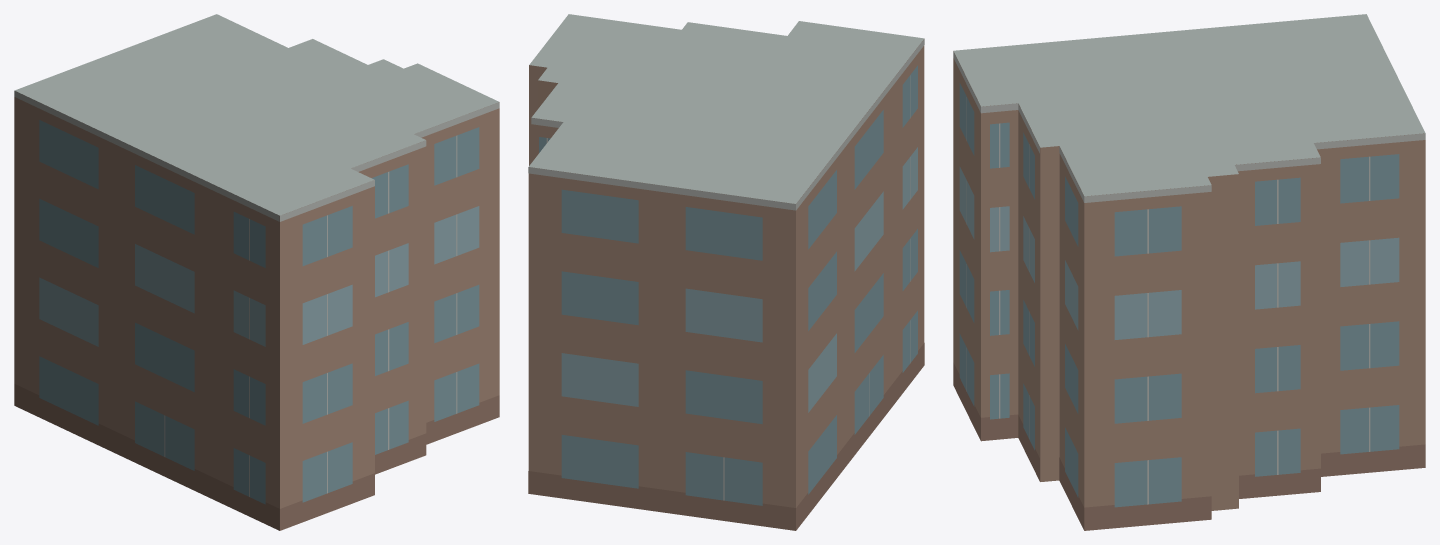
File: residential-7917a4cb-4d12-49d2-a65f-ed76a737fe51.glb
3 views of the same model, side by side, from view 1: azimuth 30°, elevation 25°; view 2: azimuth 150°, elevation 25°; view 3: azimuth 270°, elevation 25° (orthographic). The views are drawn at different scales.
Visible parts, largest first — view 1: residential-7917a4cb-4d12-49d2-a65f-ed76a737fe51.tmp; view 2: residential-7917a4cb-4d12-49d2-a65f-ed76a737fe51.tmp; view 3: residential-7917a4cb-4d12-49d2-a65f-ed76a737fe51.tmp.
Part boxes in pixels (<box>): residential-7917a4cb-4d12-49d2-a65f-ed76a737fe51.tmp: <box>14,14,499,530</box>; residential-7917a4cb-4d12-49d2-a65f-ed76a737fe51.tmp: <box>528,14,924,530</box>; residential-7917a4cb-4d12-49d2-a65f-ed76a737fe51.tmp: <box>953,14,1425,530</box>.
Bounding box in the file's own units: 14.27 × 12.2 × 15.62.
